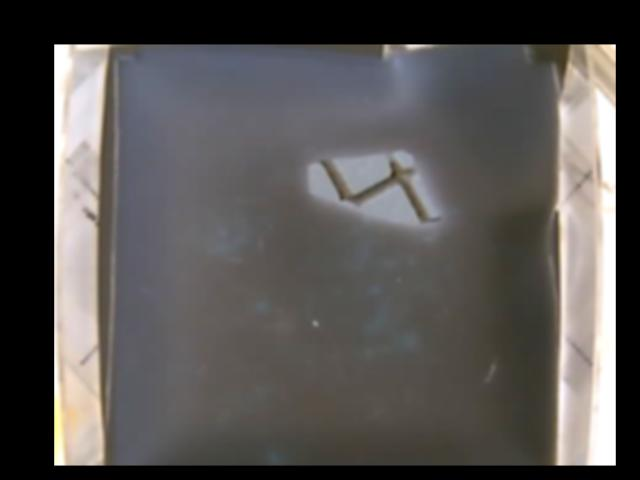China: (305, 151, 440, 226)
